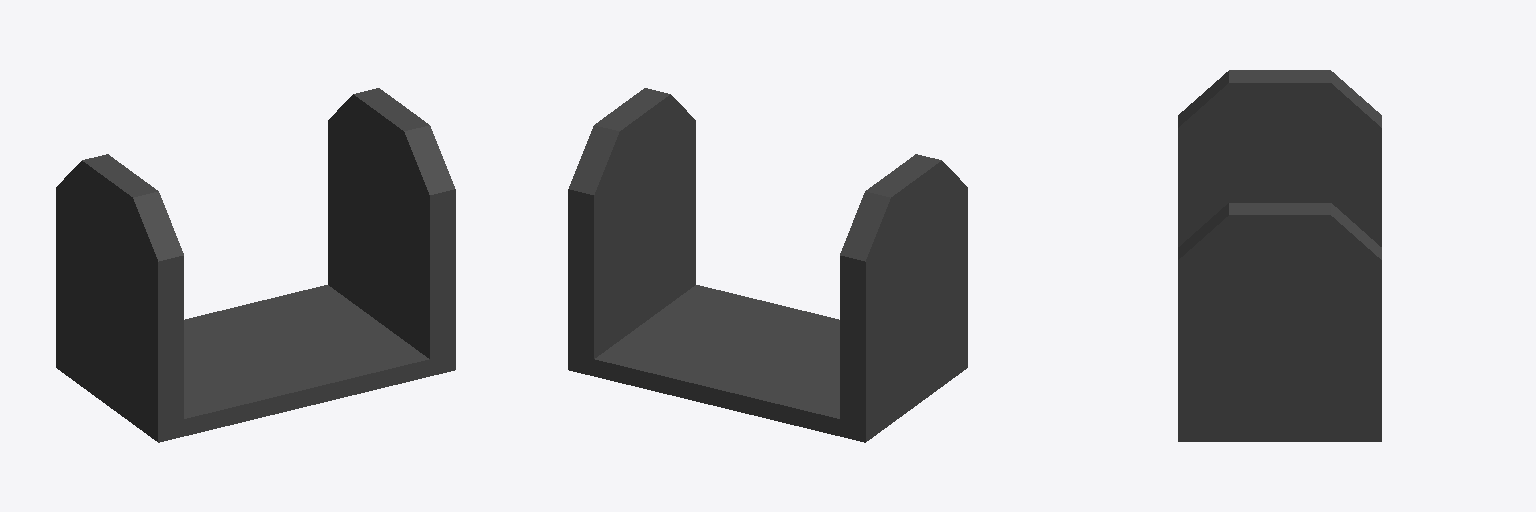
File: MovingHeadYoke.obj
3 views of the same model, side by side, from view 1: azimuth 30°, elevation 25°; view 2: azimuth 150°, elevation 25°; view 3: azimuth 270°, elevation 25° (orthographic).
Visible parts, largest first — view 1: Mesh1 Model; view 2: Mesh1 Model; view 3: Mesh1 Model.
Part boxes in pixels (x1,y1,x2,y2): Mesh1 Model: (56,88,455,442); Mesh1 Model: (568,88,967,442); Mesh1 Model: (1178,70,1381,441).
Size of the model in its own units: 26.76 by 19.49 by 15.92.